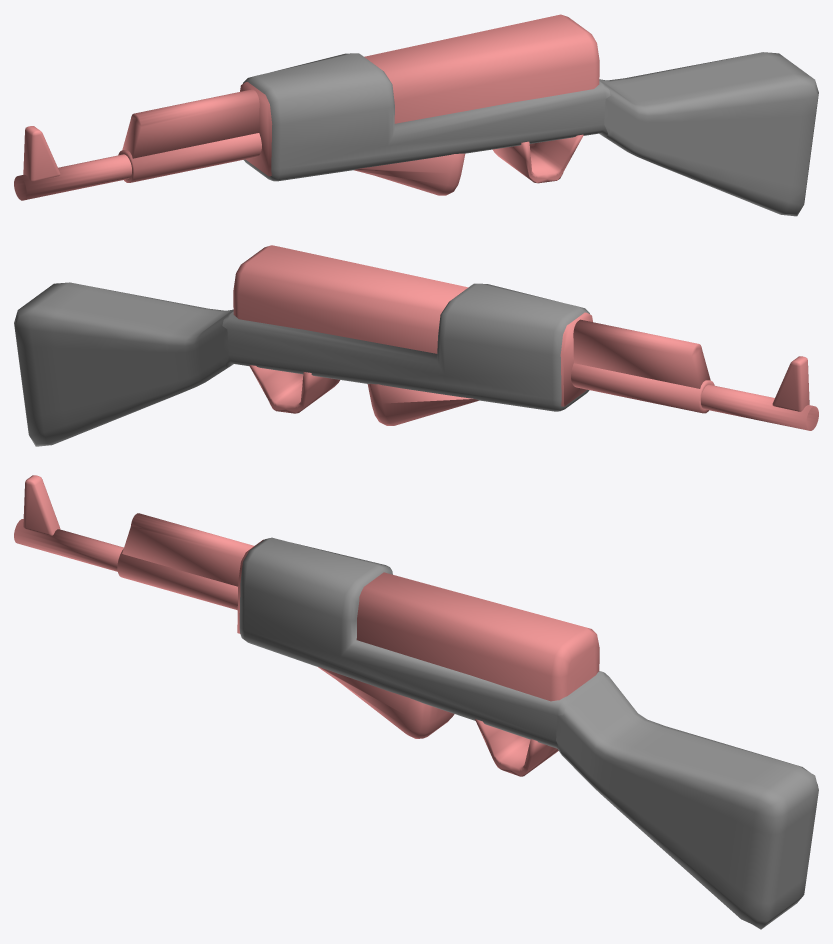
The model's file is SemiAutomatic.fbx.
3 renders of one model, top to bottom at view 1: azimuth 30°, elevation 25°; view 2: azimuth 150°, elevation 25°; view 3: azimuth 330°, elevation 25°, orthographic.
Parts seen in each view (by area): view 1: SM_SemiRifle; view 2: SM_SemiRifle; view 3: SM_SemiRifle.
Part boxes in pixels (bbox=[...]): SM_SemiRifle: bbox=[14, 14, 818, 216]; SM_SemiRifle: bbox=[14, 245, 818, 446]; SM_SemiRifle: bbox=[14, 475, 818, 929].
Bounding box in the file's own units: 176 × 55.14 × 18.88.
